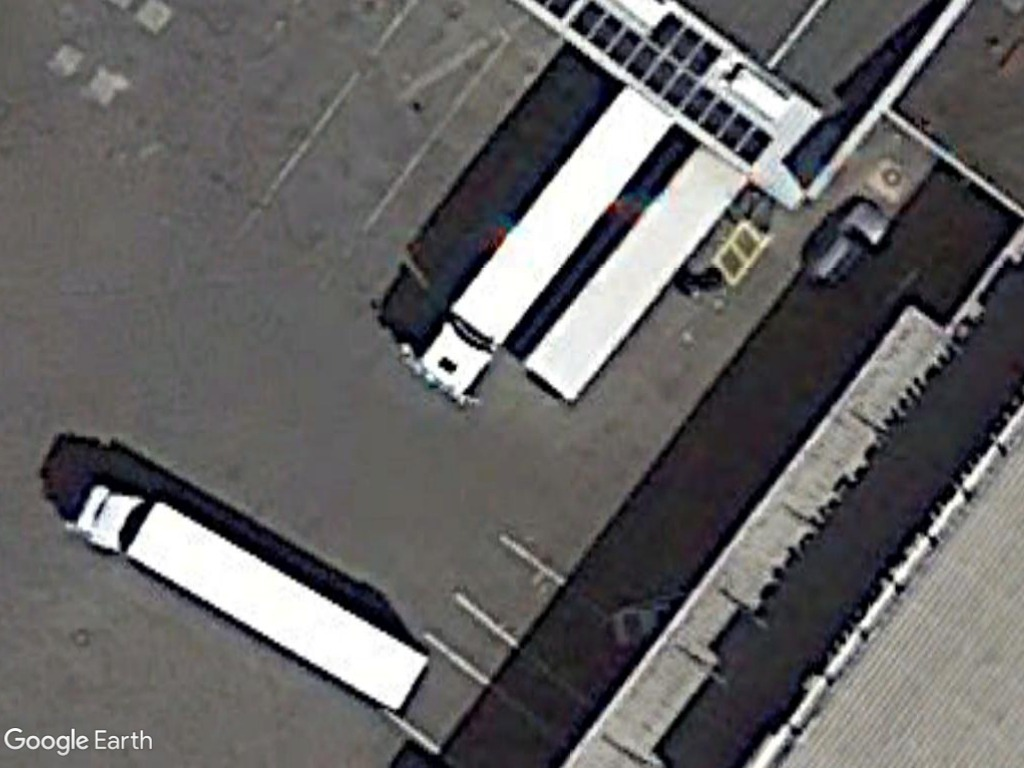longvehicle: (69, 475, 437, 721), (409, 93, 674, 399), (525, 146, 748, 408)
